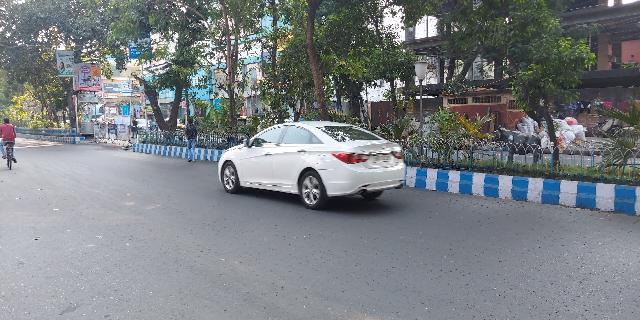Car: (212, 118, 410, 207)
Cycle: (1, 118, 21, 174)
